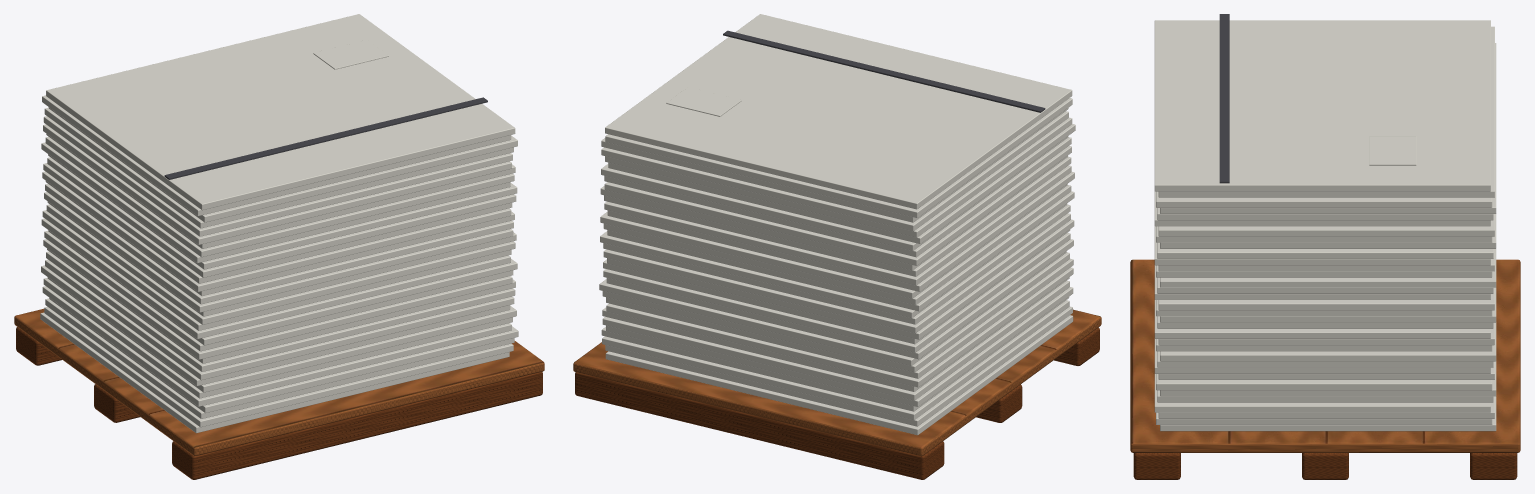
The model's file is printing-press-and-newspaper-office-paper-skid-and-sta-b4402cf8__37750.glb.
The picture shows the model from 3 angles, left to right: view 1: azimuth 30°, elevation 25°; view 2: azimuth 150°, elevation 25°; view 3: azimuth 270°, elevation 25°; orthographic projection. The views are drawn at different scales.
Parts seen in each view (by area): view 1: paper-skid-and-stack; view 2: paper-skid-and-stack; view 3: paper-skid-and-stack.
Boxes of the visible parts, <box> form: paper-skid-and-stack: <box>14,14,544,479</box>; paper-skid-and-stack: <box>573,14,1101,479</box>; paper-skid-and-stack: <box>1130,14,1520,479</box>.
Bounding box in the file's own units: 1.3 × 0.96 × 1.16.
4 materials, 2 textured.
